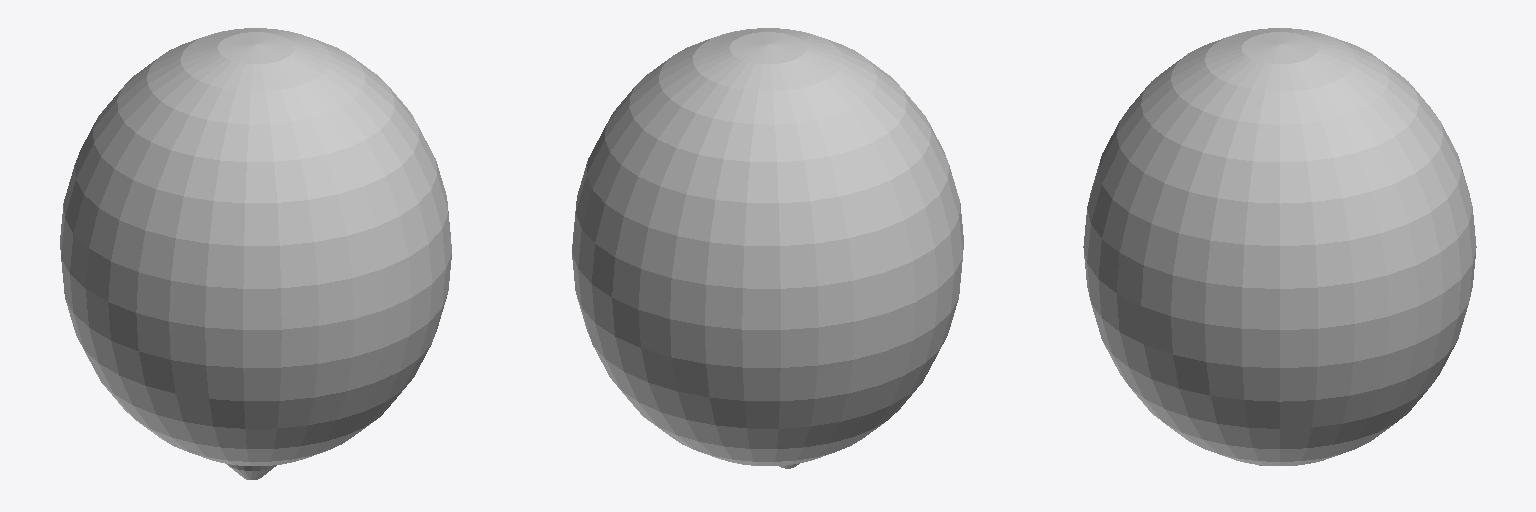
The model's file is CoconutBrown.obj.
3 views of the same model, side by side, from view 1: azimuth 30°, elevation 25°; view 2: azimuth 150°, elevation 25°; view 3: azimuth 270°, elevation 25° (orthographic).
Parts seen in each view (by area): view 1: Sphere001; view 2: Sphere001; view 3: Sphere001.
Part boxes in pixels (bbox=[...]): Sphere001: bbox=[60, 28, 451, 465]; Sphere001: bbox=[572, 28, 963, 465]; Sphere001: bbox=[1083, 28, 1476, 465].
Bounding box in the file's own units: 4.7 × 5.58 × 4.7.